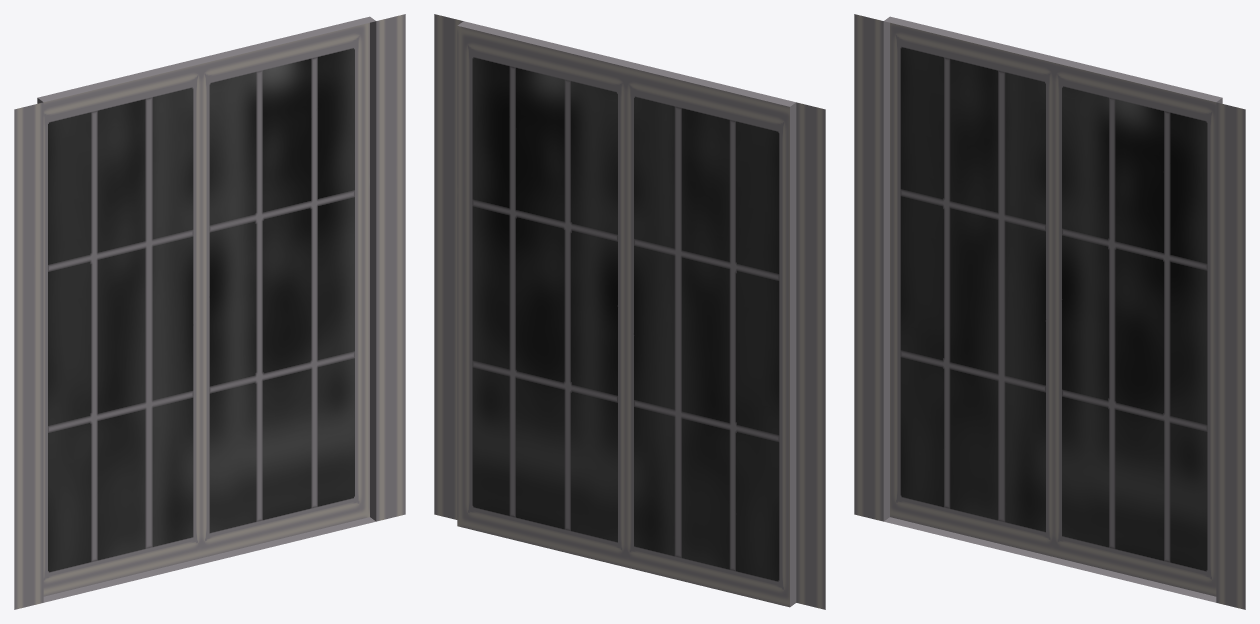
The model's file is SM_ENV_K2_WINDOW_02.fbx.
3 renders of one model, left to right at view 1: azimuth 30°, elevation 25°; view 2: azimuth 150°, elevation 25°; view 3: azimuth 330°, elevation 25°, orthographic.
Parts seen in each view (by area): view 1: SM_ENV_K2_WINDOW_02; view 2: SM_ENV_K2_WINDOW_02; view 3: SM_ENV_K2_WINDOW_02.
Boxes of the visible parts, <box> form: SM_ENV_K2_WINDOW_02: <box>14,14,405,609</box>; SM_ENV_K2_WINDOW_02: <box>434,14,825,609</box>; SM_ENV_K2_WINDOW_02: <box>854,14,1245,609</box>.
Bounding box in the file's own units: 1.8 × 2.2 × 0.05.
